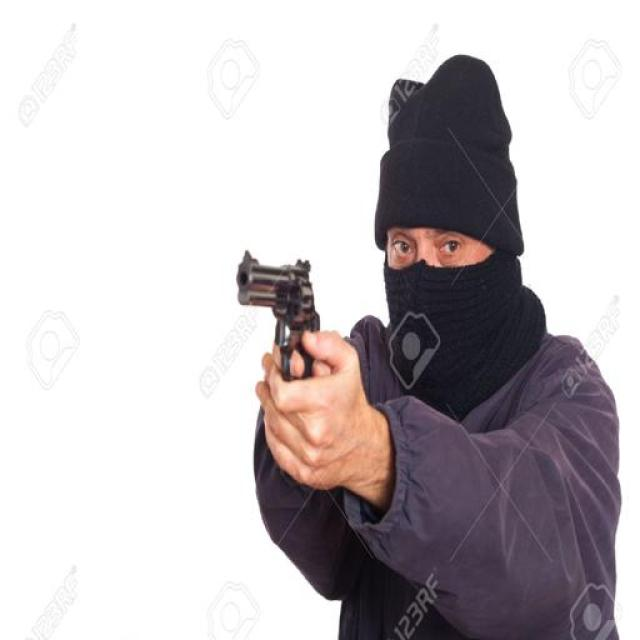pistol: (224, 240, 333, 380)
